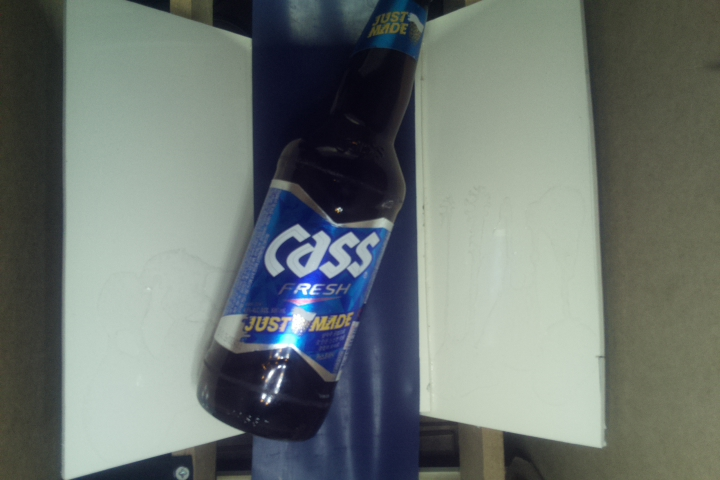makju: (191, 1, 438, 442)
